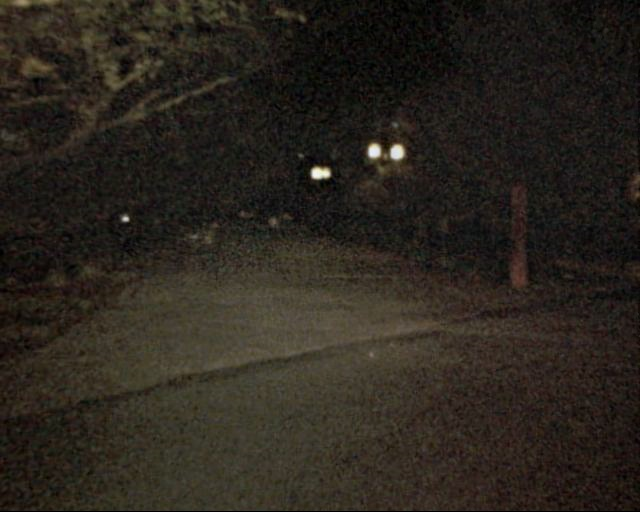person: (265, 211, 284, 258)
